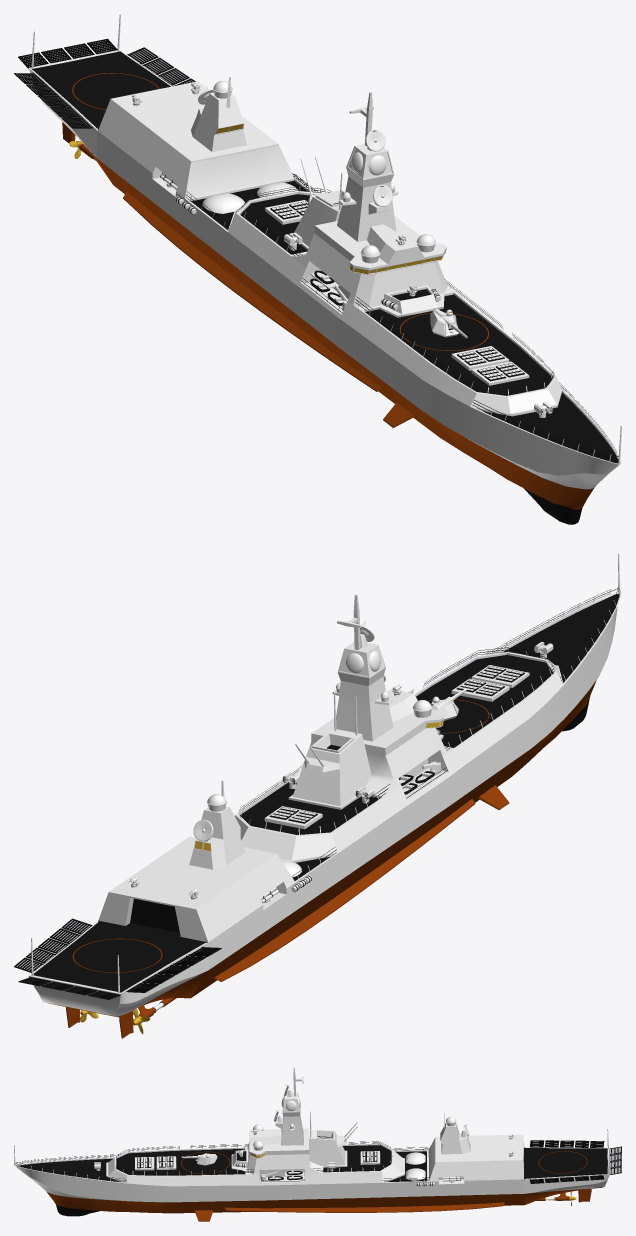
Rendered from bengaluru_class_destroyer_d67.glb.
The picture shows the model from 3 angles, top to bottom: view 1: azimuth 30°, elevation 25°; view 2: azimuth 150°, elevation 25°; view 3: azimuth 270°, elevation 25°; orthographic projection. The views are drawn at different scales.
Parts seen in each view (by area): view 1: Hull, Cube.001, FlightMesh_1, FlightMesh_1.001, Railing.004, Capaciters, VLS_1.001, VLS_1, Railing.002, DRDO KJ1800 Railgun, VLS_1.002; view 2: Hull, Cube.001, FlightMesh_1, Railing.004, VLS_1.002, VLS_1, VLS_1.001, Railing.002, FlightMesh_1.001; view 3: Hull, Cube.001, FlightMesh_1, Railing.004, Railing.002, Capaciters, FlightMesh_1.001, VLS_1, VLS_1.002, VLS_1.001, DRDO KJ1800 Railgun, Railing.005.
Boxes of the visible parts, bbox=[...] form: Hull: bbox=[28, 49, 621, 524]; Cube.001: bbox=[123, 192, 382, 391]; FlightMesh_1: bbox=[14, 47, 195, 128]; FlightMesh_1.001: bbox=[18, 38, 117, 68]; Railing.004: bbox=[355, 279, 554, 396]; Capaciters: bbox=[202, 182, 298, 213]; VLS_1.001: bbox=[471, 361, 529, 385]; VLS_1: bbox=[451, 346, 509, 370]; Railing.002: bbox=[472, 383, 618, 461]; DRDO KJ1800 Railgun: bbox=[430, 309, 467, 338]; VLS_1.002: bbox=[265, 200, 307, 224]; Hull: bbox=[29, 591, 621, 1017]; Cube.001: bbox=[214, 798, 475, 981]; FlightMesh_1: bbox=[14, 918, 221, 992]; Railing.004: bbox=[409, 647, 555, 750]; VLS_1.002: bbox=[264, 806, 322, 829]; VLS_1: bbox=[451, 678, 509, 701]; VLS_1.001: bbox=[471, 665, 529, 687]; Railing.002: bbox=[486, 587, 620, 682]; FlightMesh_1.001: bbox=[18, 977, 120, 999]; Hull: bbox=[14, 1067, 609, 1216]; Cube.001: bbox=[225, 1202, 504, 1212]; FlightMesh_1: bbox=[529, 1140, 604, 1183]; Railing.004: bbox=[115, 1144, 253, 1175]; Railing.002: bbox=[15, 1154, 126, 1182]; Capaciters: bbox=[405, 1152, 425, 1180]; FlightMesh_1.001: bbox=[609, 1146, 621, 1174]; VLS_1: bbox=[156, 1156, 176, 1169]; VLS_1.002: bbox=[360, 1151, 380, 1164]; VLS_1.001: bbox=[135, 1157, 154, 1170]; DRDO KJ1800 Railgun: bbox=[181, 1153, 217, 1165]; Railing.005: bbox=[313, 1141, 392, 1171].
Size of the model in its own units: 0.8495 by 1.5 by 5.5.
